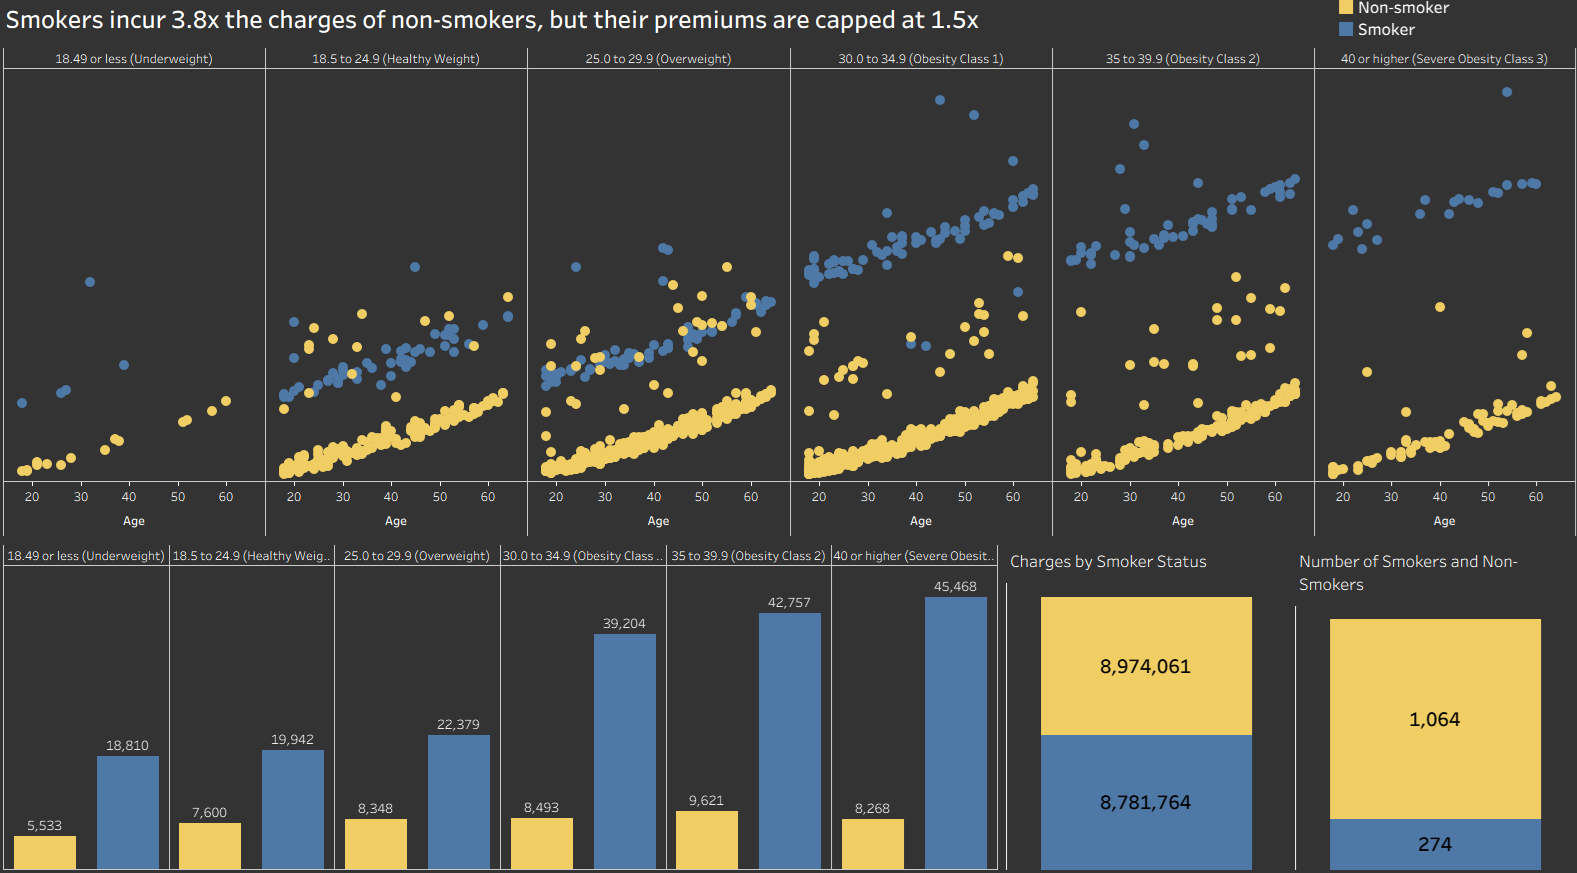

The page's visual inventory and layout, read from the dashboard file:
{"tool":"tableau","page":{"name":"Findings for Medical Charges","canvas":[1600,900],"ordinal":0},"visuals":[{"type":"text","box":[9,9,1332,51.7]},{"type":"legend","title":"Number of Smokers and Non-Smokers","param":"[federated.1wwsh501rhim6m169evxa16o54w1].[none:smoker:nk]","box":[1341,9,250,51.7]},{"type":"worksheet","title":"Charges by Age and Smoker Status","mark":"Circle","rows":["charges"],"cols":["bmi_category","age"],"box":[9,60.7,1582,497.2]},{"type":"worksheet","title":"Number of Smokers and Non-Smokers (3)","mark":"Automatic","rows":["charges"],"cols":["bmi_category","smoker"],"box":[9,558,1003,333]},{"type":"worksheet","title":"Number of Smokers and Non-Smokers (2)","mark":"Automatic","rows":["charges"],"box":[1012,558,289.5,333]},{"type":"worksheet","title":"Number of Smokers and Non-Smokers","mark":"Automatic","rows":["charges"],"box":[1301.5,558,289.5,333]}]}

Visuals, with their boxes in screenshot pixels (x1, y1, x2, y2), scaled from the page's 1600x900 canvas onto the 1577x873 screenshot:
text: [9, 9, 1322, 59]
"Number of Smokers and Non-Smokers" legend: [1322, 9, 1568, 59]
"Charges by Age and Smoker Status" worksheet (Circle marks): [9, 59, 1568, 541]
"Number of Smokers and Non-Smokers (3)" worksheet: [9, 541, 997, 864]
"Number of Smokers and Non-Smokers (2)" worksheet: [997, 541, 1283, 864]
"Number of Smokers and Non-Smokers" worksheet: [1283, 541, 1568, 864]
